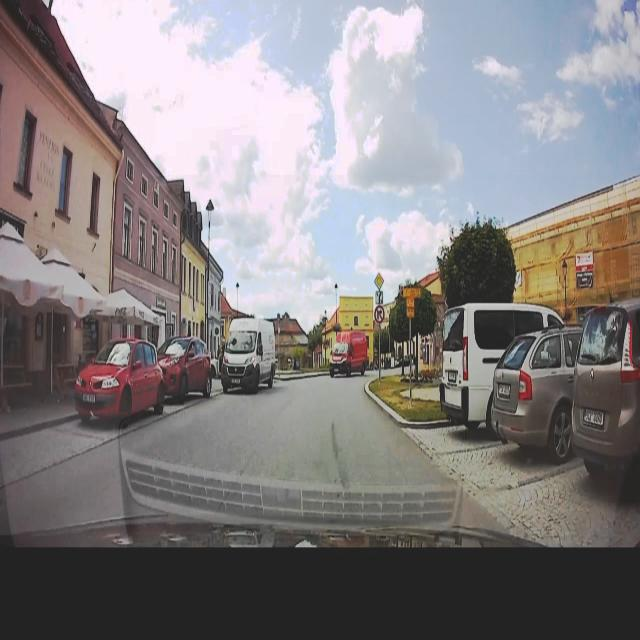Priority road: (375, 271, 384, 291)
